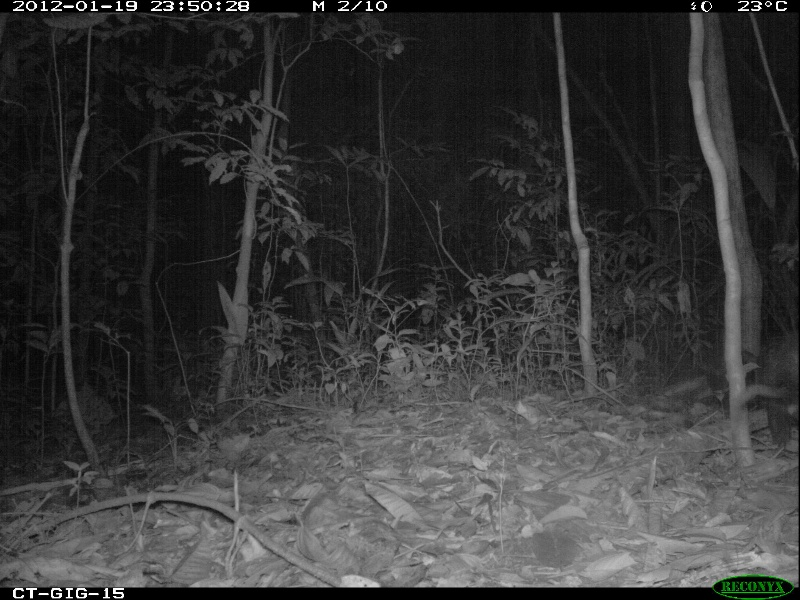opossum: (742, 323, 800, 462)
